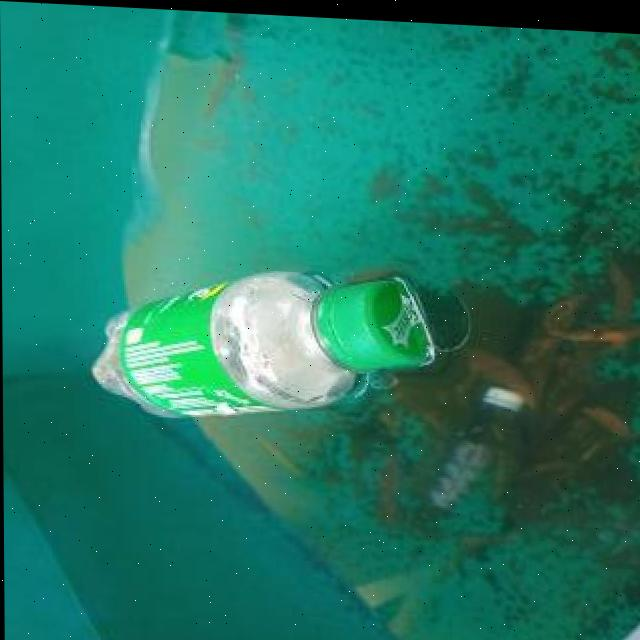bottle: (88, 257, 437, 425)
